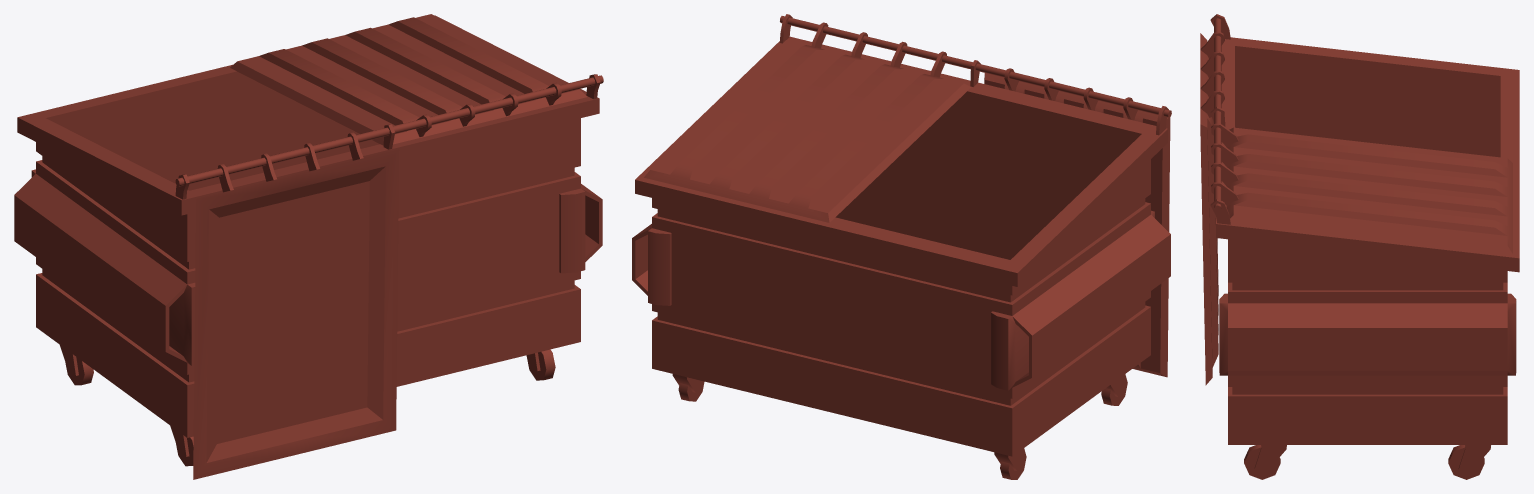
File: Trash.fbx
The picture shows the model from 3 angles, left to right: view 1: azimuth 30°, elevation 25°; view 2: azimuth 150°, elevation 25°; view 3: azimuth 270°, elevation 25°; orthographic projection. The views are drawn at different scales.
Parts seen in each view (by area): view 1: Trash, Trash1, Trash2; view 2: Trash, Trash2, Trash1; view 3: Trash, Trash2, Trash1.
Boxes of the visible parts, x1,y1,x2,y2 form: Trash: (14, 15, 603, 466); Trash1: (193, 132, 399, 479); Trash2: (230, 14, 587, 145); Trash: (632, 14, 1171, 479); Trash2: (644, 22, 971, 222); Trash1: (984, 68, 1170, 377); Trash: (1210, 14, 1519, 479); Trash2: (1211, 123, 1512, 254); Trash1: (1200, 31, 1224, 385).
Bounding box in the file's own units: 183 × 126 × 126.
